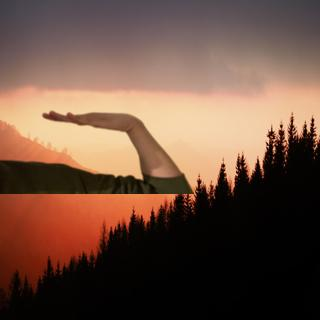WAIT: (40, 104, 144, 137)
